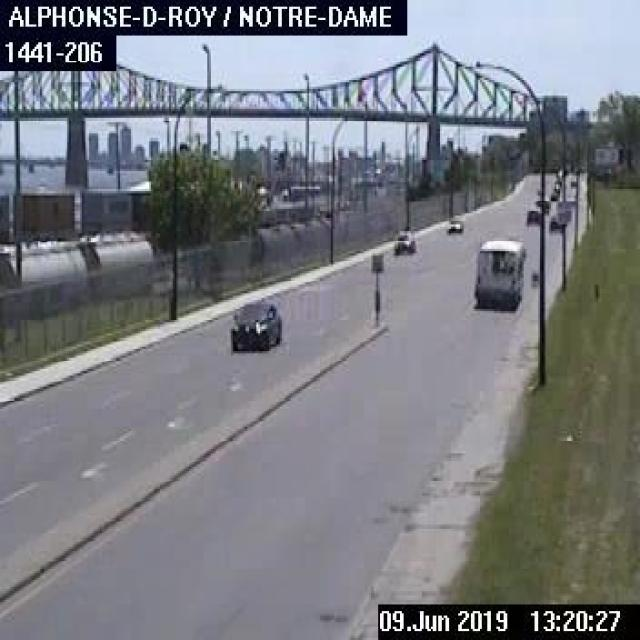bus: (472, 233, 524, 307)
vehicle: (227, 300, 280, 349), (391, 227, 413, 253), (444, 216, 462, 233), (524, 206, 540, 225), (548, 212, 561, 231)
